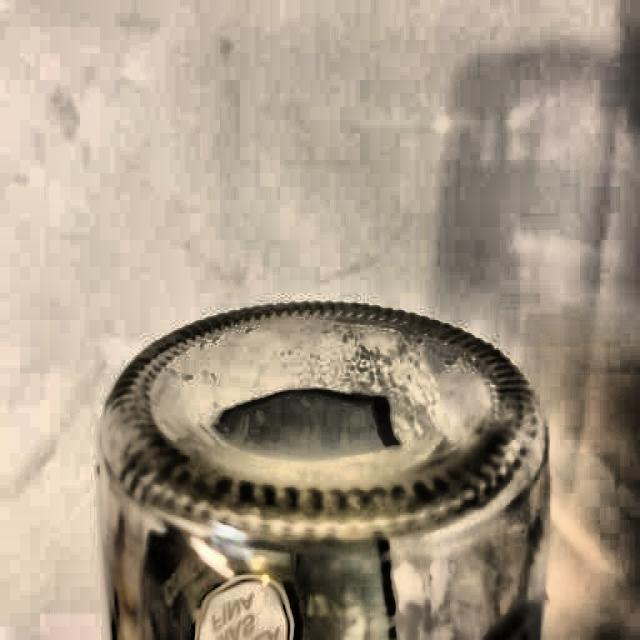glass: (95, 300, 553, 640)
